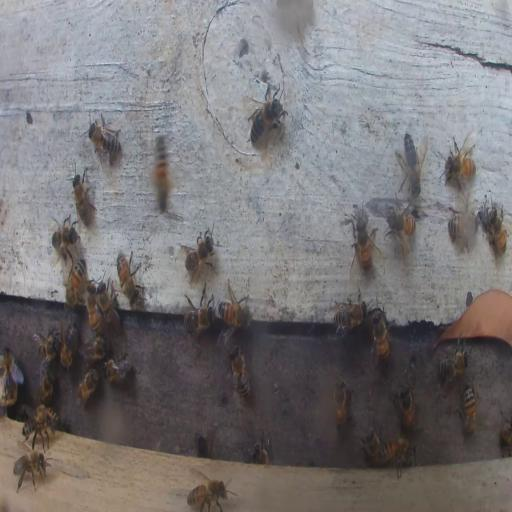nonpollenbee: (245, 83, 288, 144), (182, 225, 218, 281), (87, 113, 122, 168), (396, 133, 424, 198), (385, 200, 416, 258), (349, 204, 374, 275), (21, 407, 59, 449), (444, 138, 477, 186), (183, 286, 215, 335), (115, 247, 141, 305), (333, 294, 368, 337), (69, 171, 95, 228), (217, 289, 252, 331), (50, 210, 79, 260), (187, 477, 229, 511), (382, 436, 419, 474), (13, 450, 48, 490), (370, 308, 392, 365), (228, 344, 250, 399), (2, 346, 22, 405), (486, 205, 508, 258), (95, 280, 118, 328), (394, 383, 416, 433), (333, 372, 351, 430), (65, 256, 85, 308), (60, 319, 79, 370), (458, 383, 476, 435), (439, 351, 468, 382), (362, 426, 384, 466), (103, 354, 132, 383), (34, 328, 58, 363), (449, 210, 470, 248), (86, 283, 101, 334), (78, 366, 99, 402), (80, 336, 108, 363), (39, 363, 56, 406), (248, 437, 270, 463), (500, 412, 512, 452)
pollenbee: (150, 131, 174, 217)
